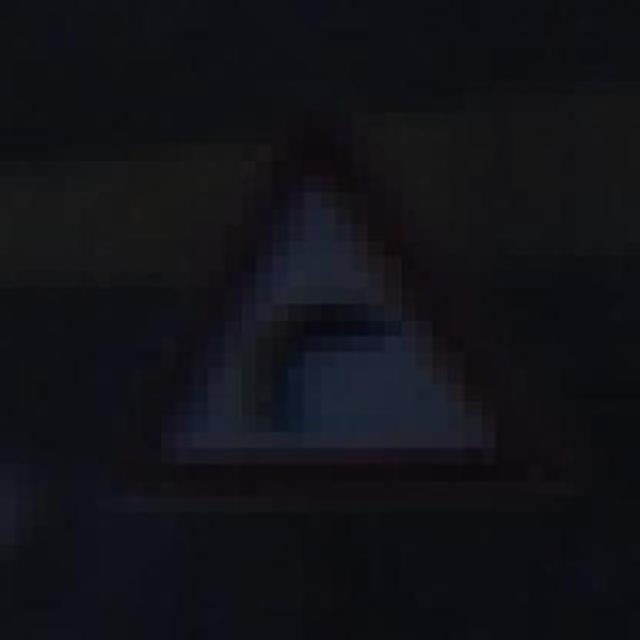Dangerous Rright Curve Ahead: (111, 96, 528, 529)
